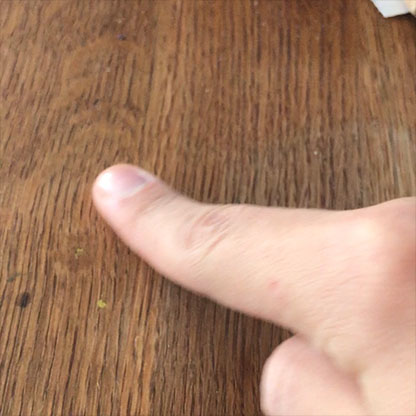fingertip: (75, 153, 164, 228)
